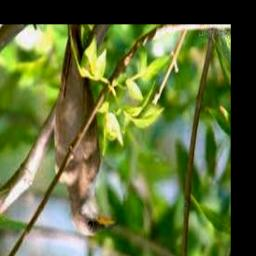Cuckoo: (54, 25, 119, 237)
